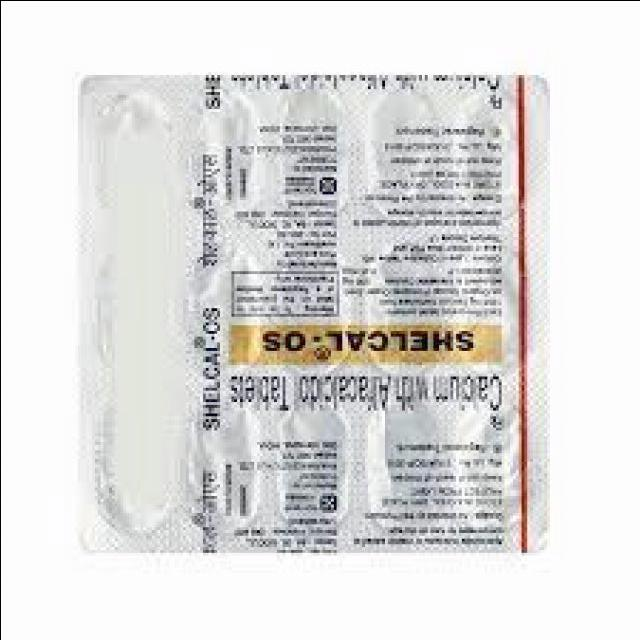authentic: (61, 66, 564, 561)
